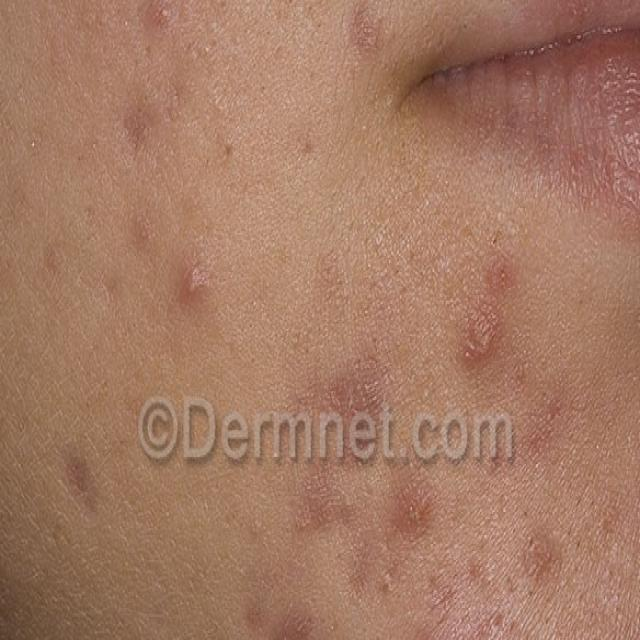Acne: (255, 466, 489, 640), (433, 231, 548, 382), (44, 422, 126, 531), (335, 5, 415, 87), (512, 496, 577, 596), (170, 251, 227, 336), (117, 89, 173, 164), (133, 0, 194, 64)
